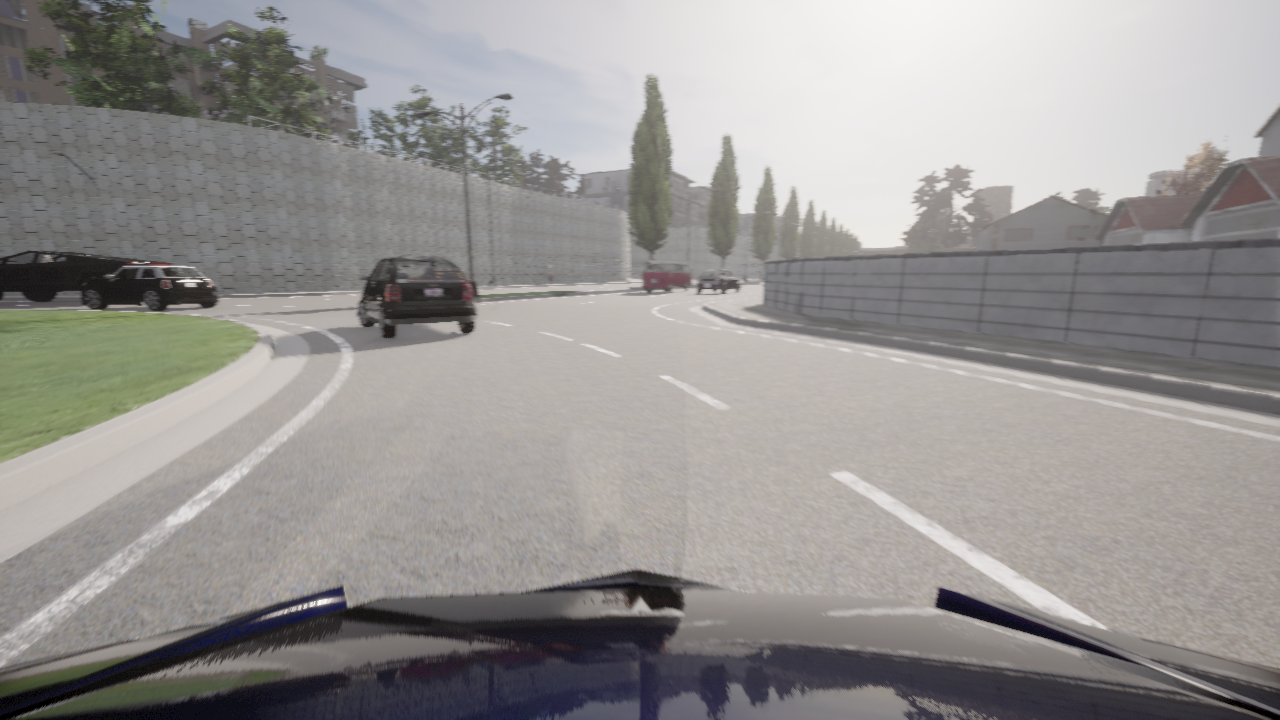cyclist: (0, 569, 1279, 719), (357, 256, 476, 338), (0, 250, 171, 301), (81, 265, 219, 310), (642, 261, 691, 292), (696, 269, 741, 294)
pedestrian: (548, 265, 552, 283)
